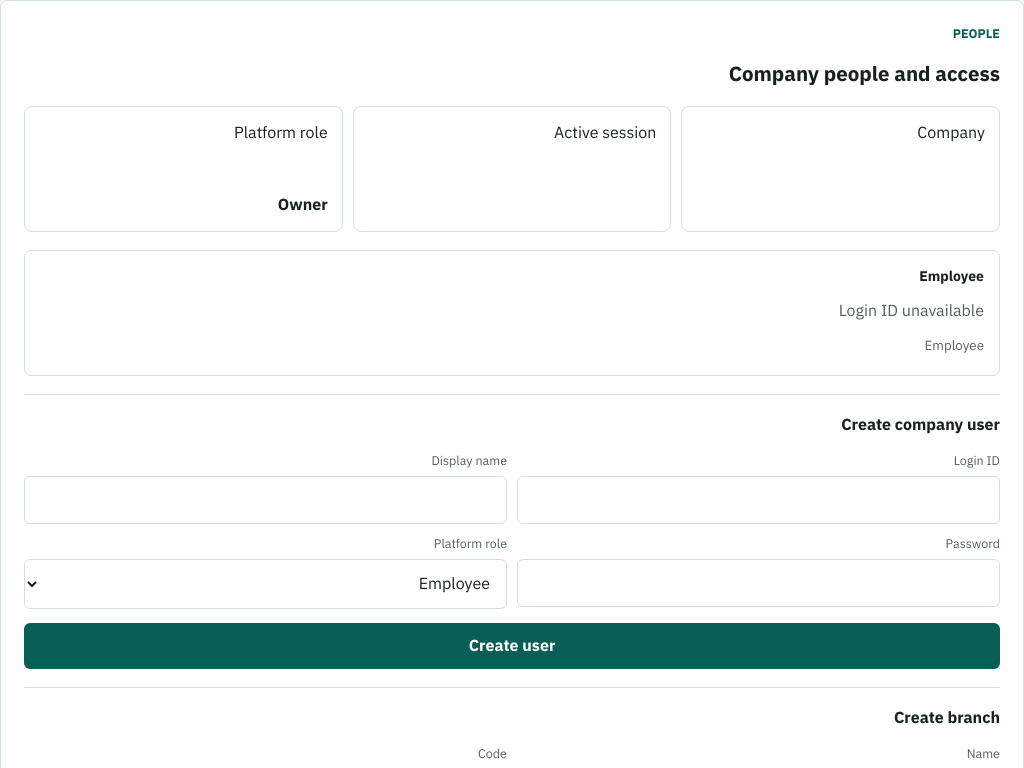
Create user distinguishes write outcome from refresh (success)
Type "Example-2026!" into the field labelled "Login ID" at (758, 500), box [517,476,1000,524]
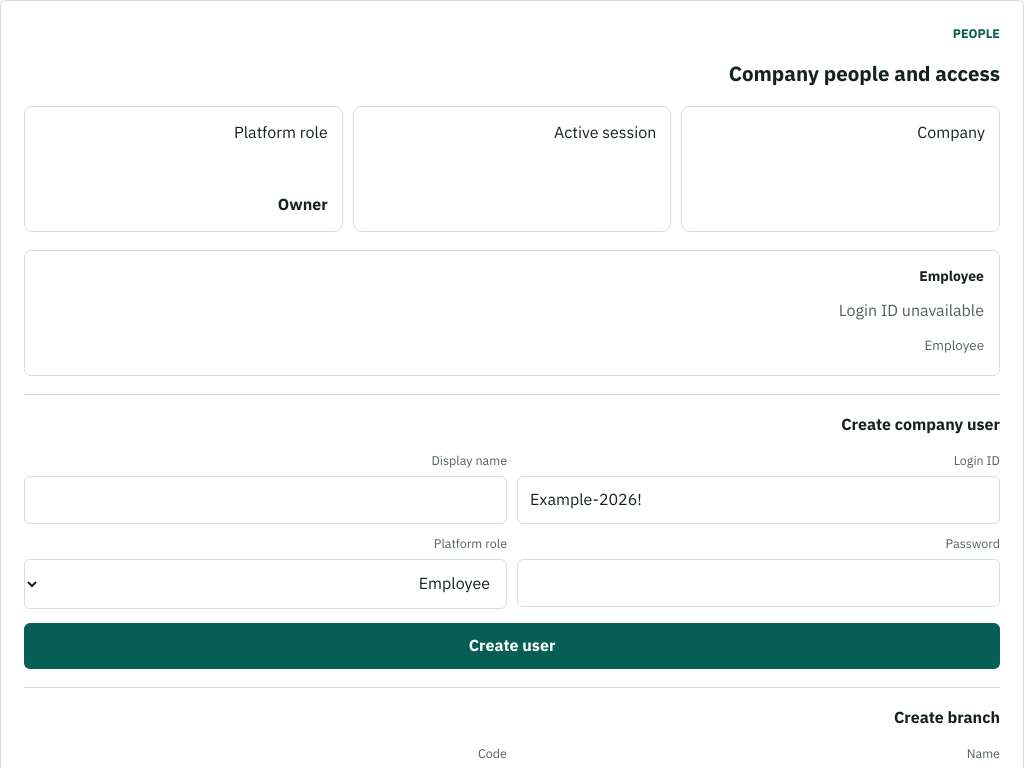
Type "Example-2026!" into the field labelled "Display name" at (266, 500), box [24,476,507,524]
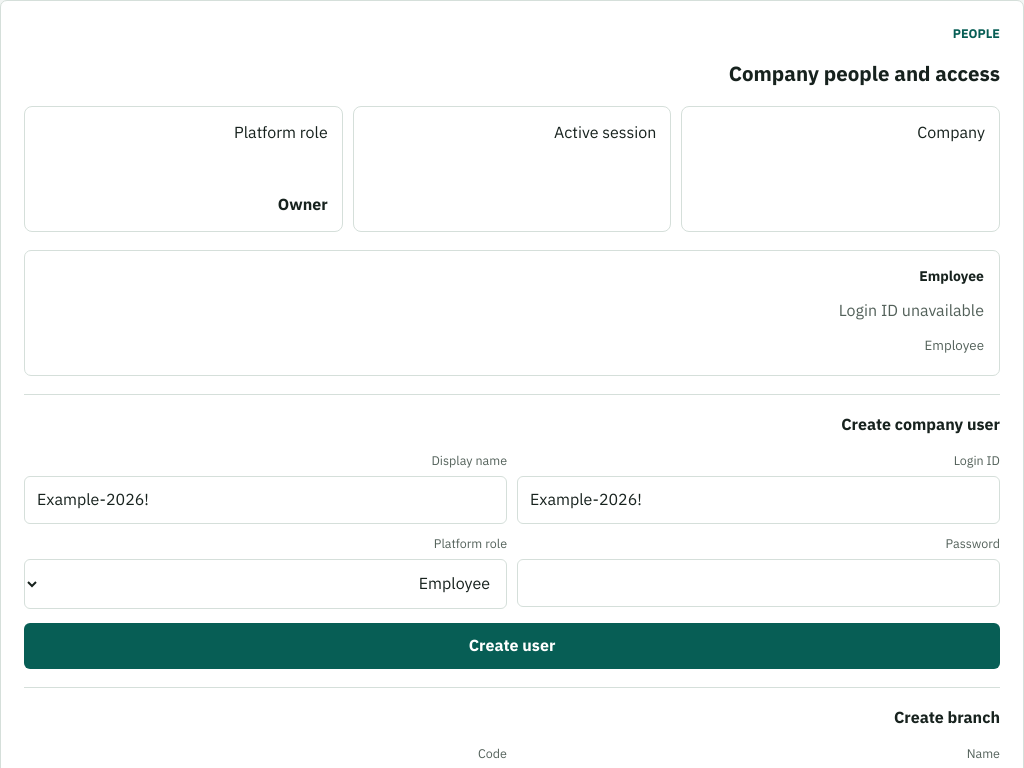
Type "Example-2026!" into the password field labelled "Password" at (758, 583), box [517,559,1000,607]
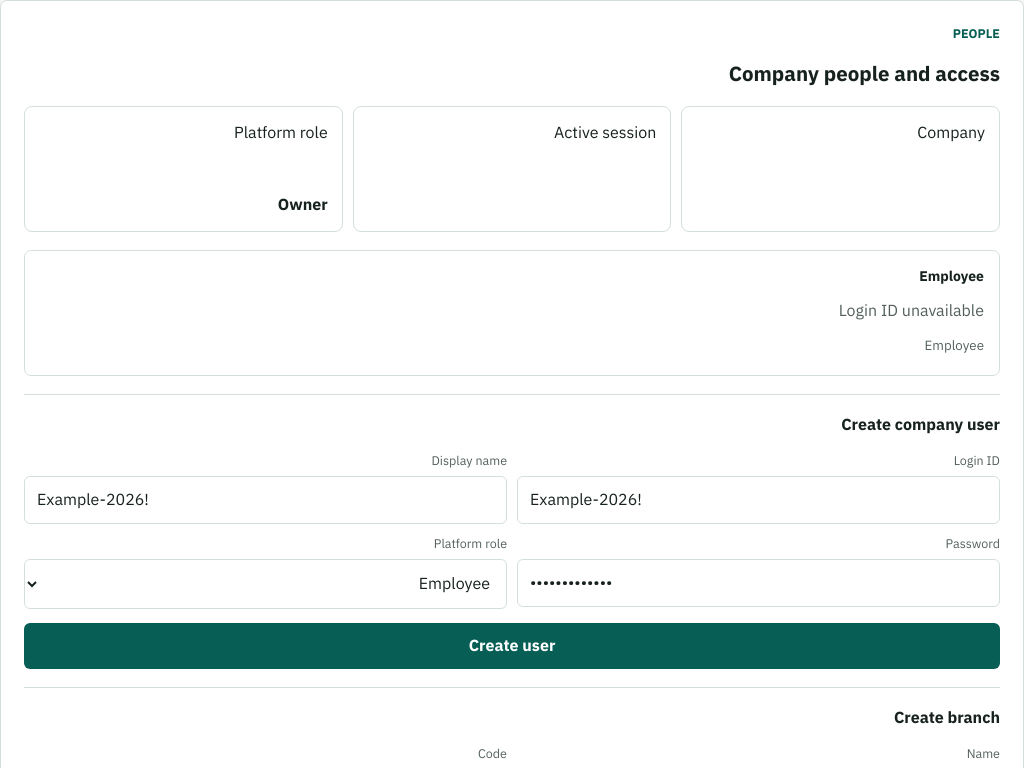
Click the button "Create user" at (512, 646), box [24,623,1000,669]
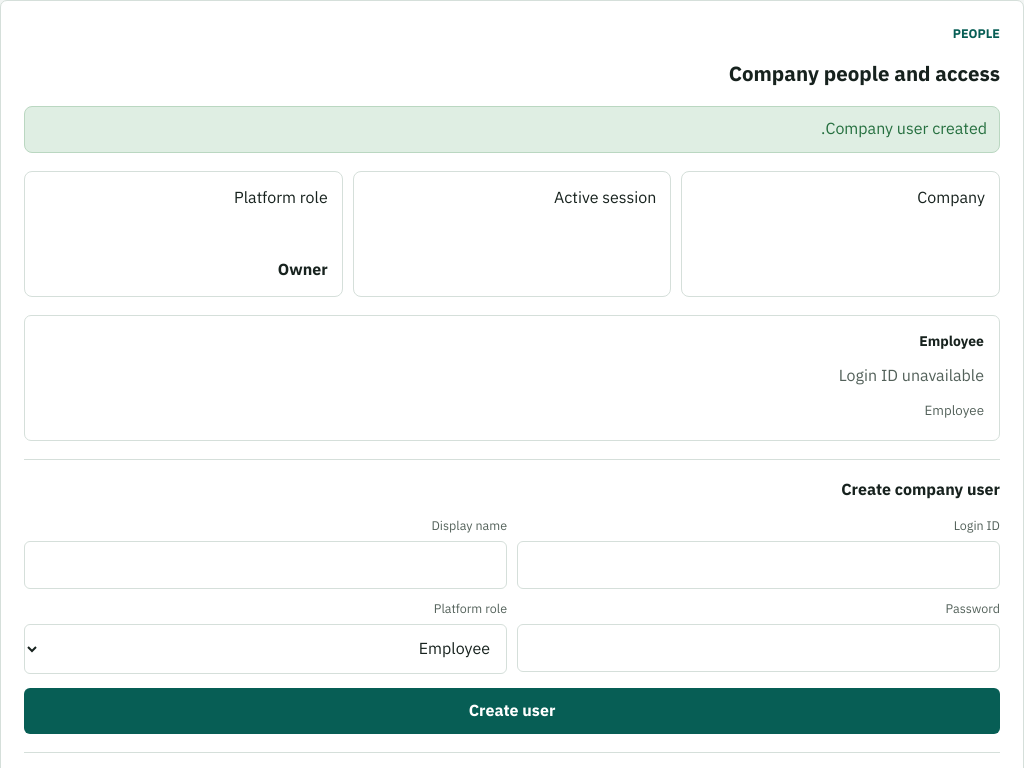
Expected: the button "Create user" is enabled, [24,688,1000,734]
Expected: the text "Company user created." is shown, [24,106,1000,153]
